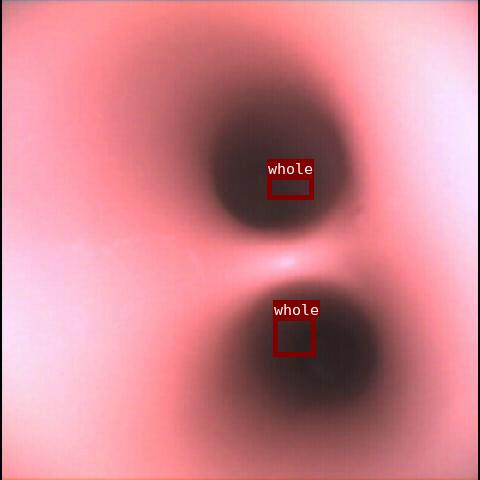whole: (273, 316, 315, 356), (267, 175, 313, 199)
